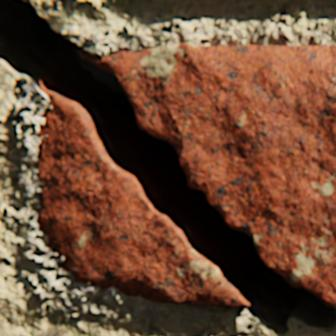broken_brick: (87, 44, 335, 306), (39, 93, 249, 306)
crack: (0, 0, 335, 335)
